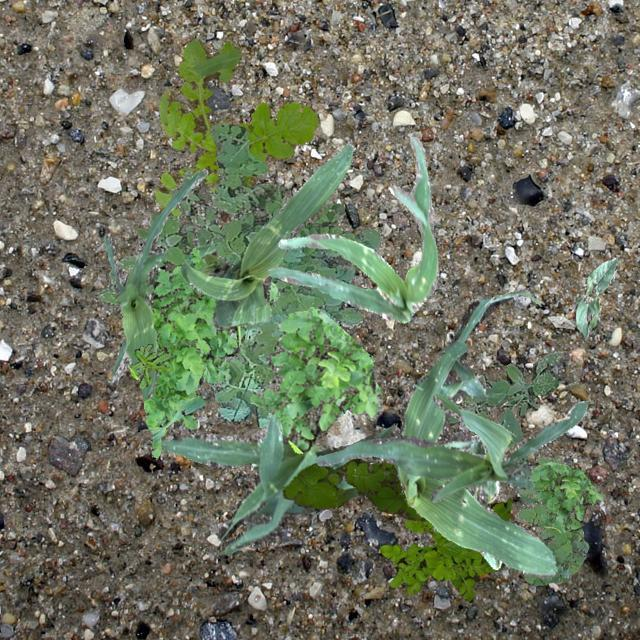crop: (394, 286, 556, 576), (160, 412, 398, 552), (180, 144, 354, 328), (268, 136, 438, 322), (314, 392, 588, 502), (102, 168, 206, 398), (464, 434, 501, 568), (574, 256, 618, 338)
weed: (180, 121, 380, 426), (128, 246, 278, 456), (152, 38, 318, 216), (92, 170, 238, 304), (250, 306, 382, 452), (448, 350, 562, 504), (380, 496, 510, 602), (514, 456, 588, 584), (282, 456, 426, 520), (526, 460, 602, 532), (132, 342, 172, 388)
